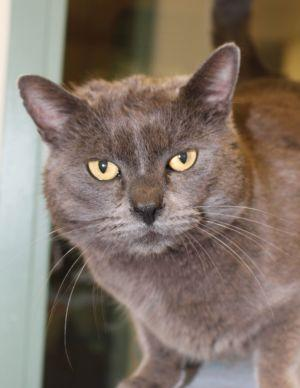rblue: (16, 38, 252, 278)
